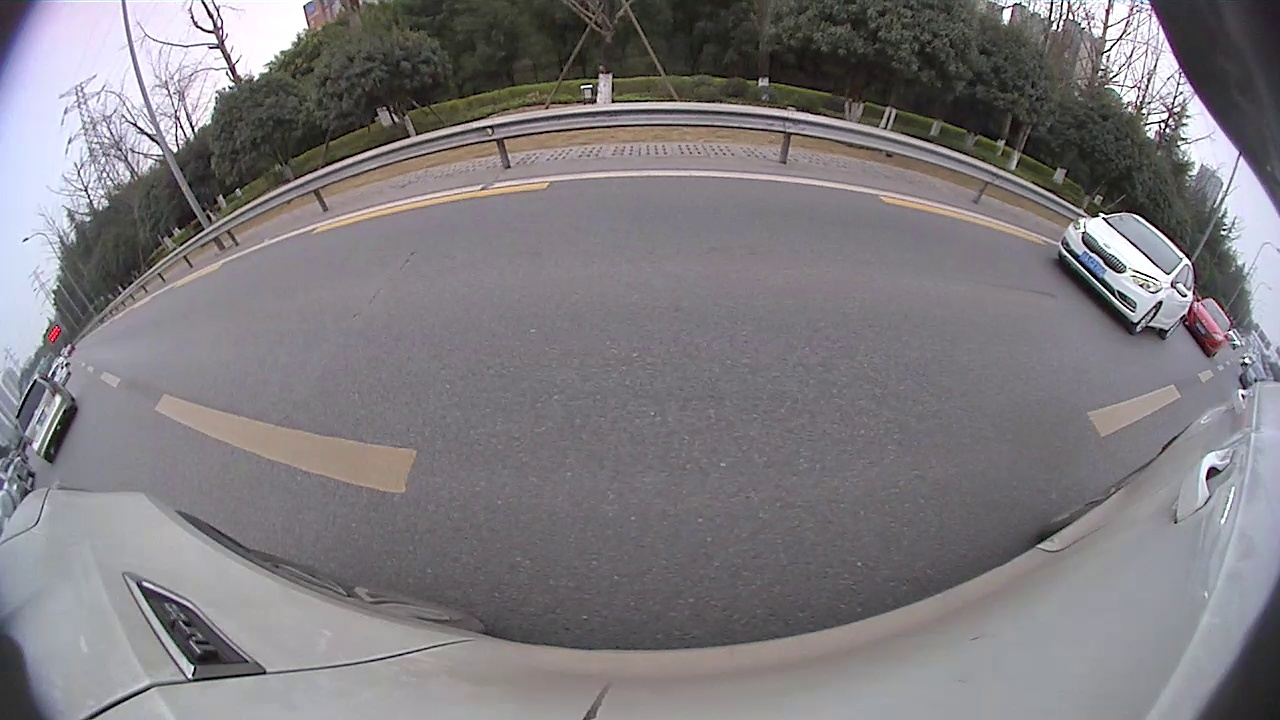car: (1, 306, 189, 518), (538, 134, 635, 210), (490, 165, 542, 198), (645, 148, 677, 186)
rear: (38, 387, 147, 511), (610, 175, 627, 205)
